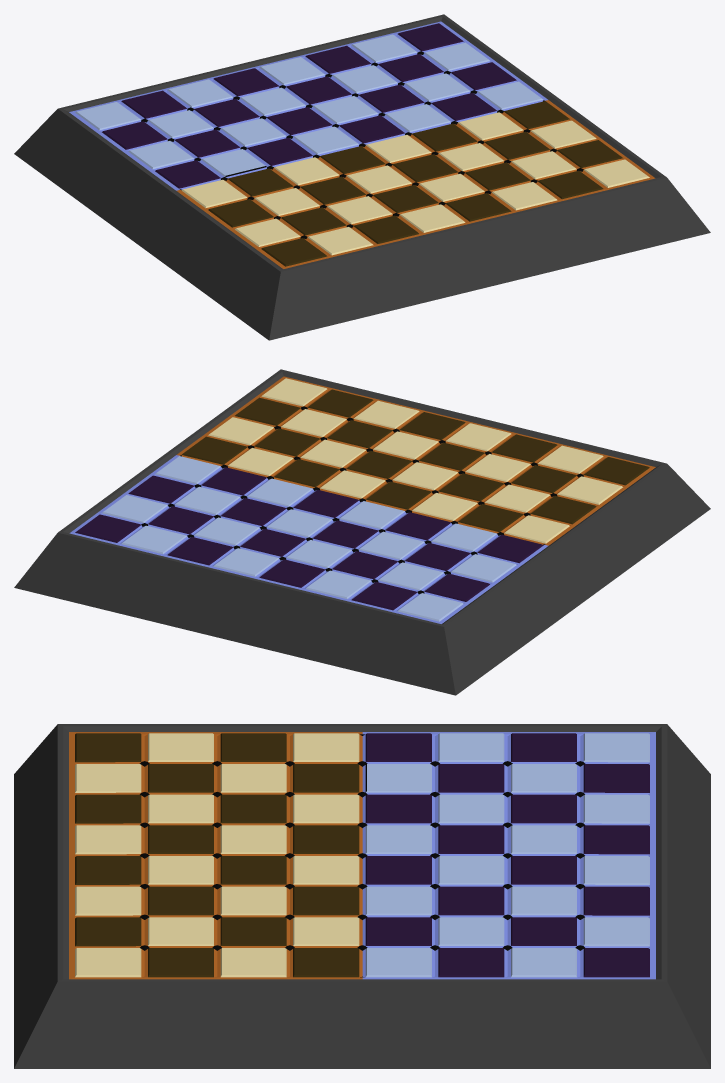
The model's file is board.fbx.
3 views of the same model, one above another, from view 1: azimuth 30°, elevation 25°; view 2: azimuth 150°, elevation 25°; view 3: azimuth 270°, elevation 25° (orthographic). The views are drawn at different scales.
Visible parts, largest first — view 1: Board; view 2: Board; view 3: Board.
Part boxes in pixels (x1=…): Board: x1=14, y1=14, x2=710, y2=340; Board: x1=14, y1=369, x2=710, y2=695; Board: x1=14, y1=724, x2=710, y2=1068.
Size of the model in its own units: 1920 by 209 by 1920.
